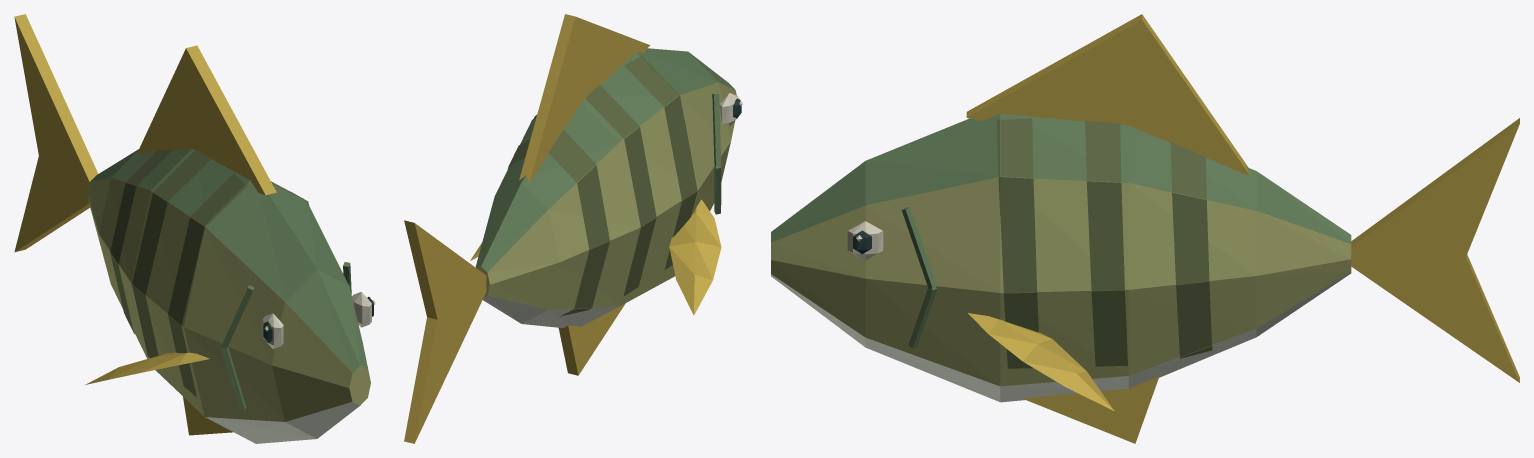
The model's file is fish_yellowperch.glb.
3 views of the same model, side by side, from view 1: azimuth 30°, elevation 25°; view 2: azimuth 150°, elevation 25°; view 3: azimuth 270°, elevation 25° (orthographic). The views are drawn at different scales.
Parts seen in each view (by area): view 1: fish; view 2: fish; view 3: fish.
Boxes of the visible parts, x1,y1,x2,y2 form: fish: (14, 14, 375, 443); fish: (404, 14, 742, 443); fish: (771, 14, 1519, 443).
Size of the model in its own units: 0.297 by 0.4576 by 0.7326.
